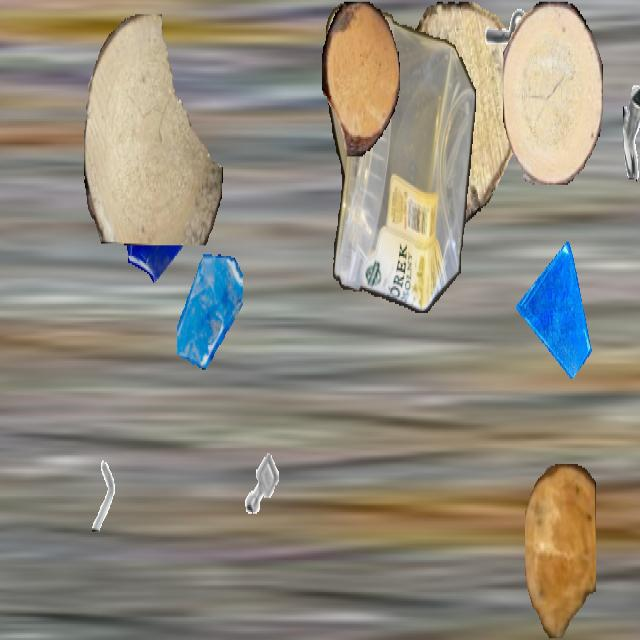glass: (116, 138, 198, 284), (516, 242, 592, 377), (177, 252, 243, 370)
metal: (470, 2, 532, 112), (237, 439, 287, 528), (82, 457, 124, 531), (623, 82, 640, 181)
plastic: (326, 2, 476, 311)
wood: (84, 14, 222, 246), (380, 2, 520, 226), (503, 2, 603, 183), (525, 464, 595, 638), (322, 1, 400, 154)
